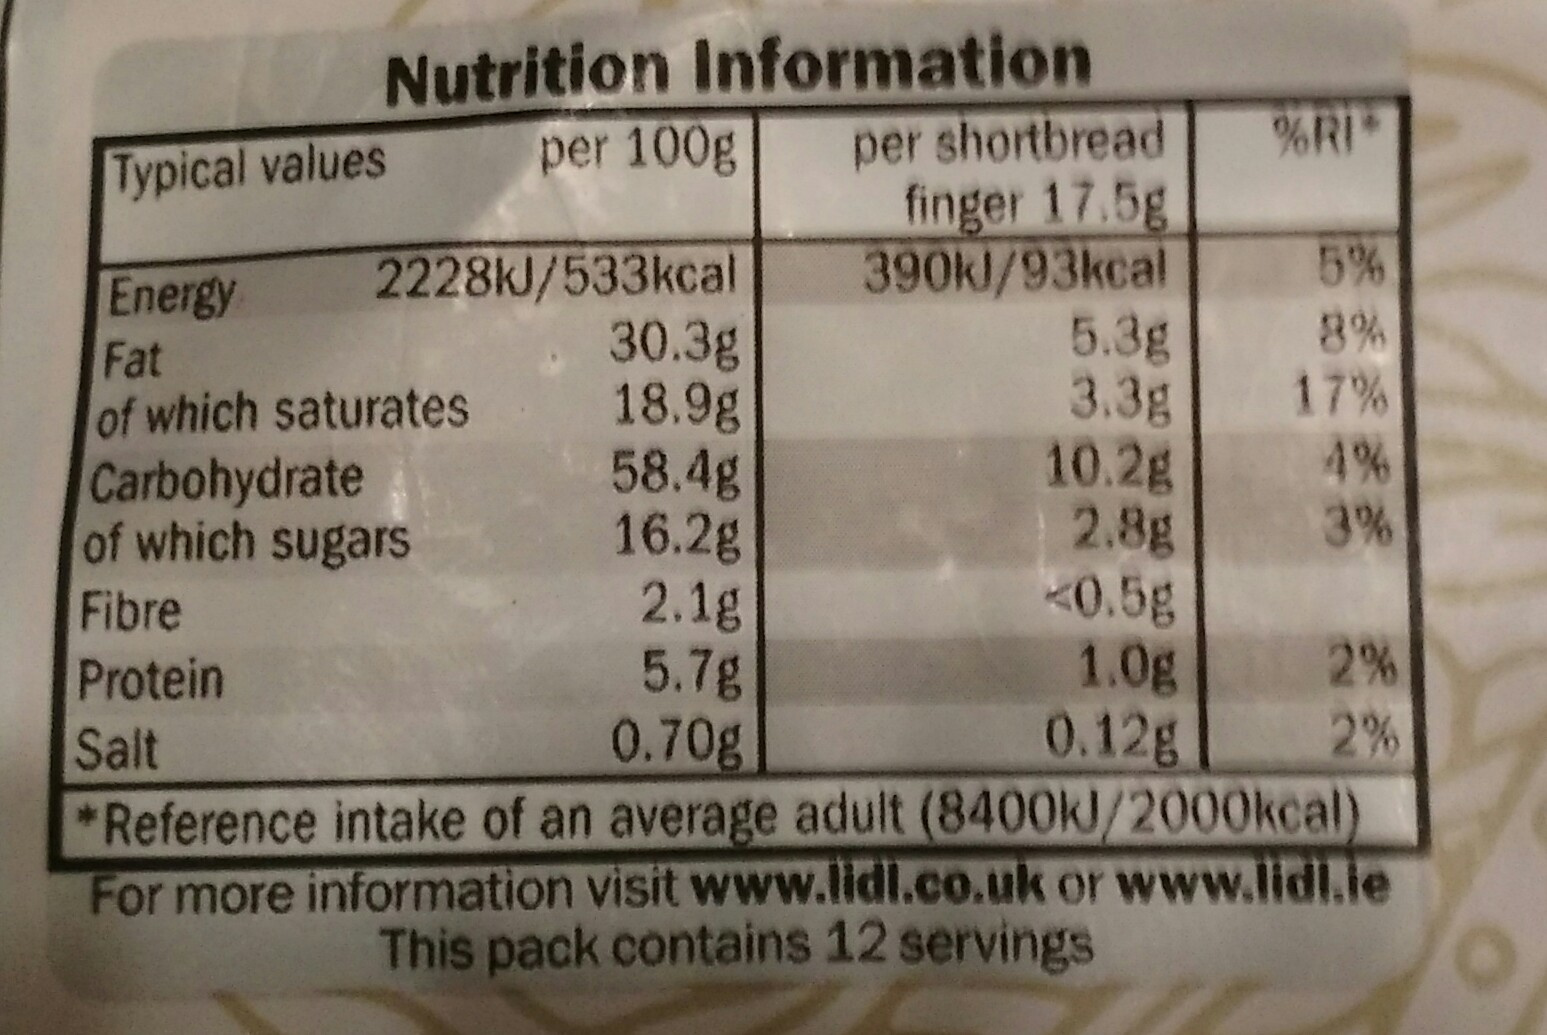column: (74, 113, 744, 775), (853, 107, 1175, 775), (1265, 100, 1401, 770)
table: (53, 81, 1441, 788)
